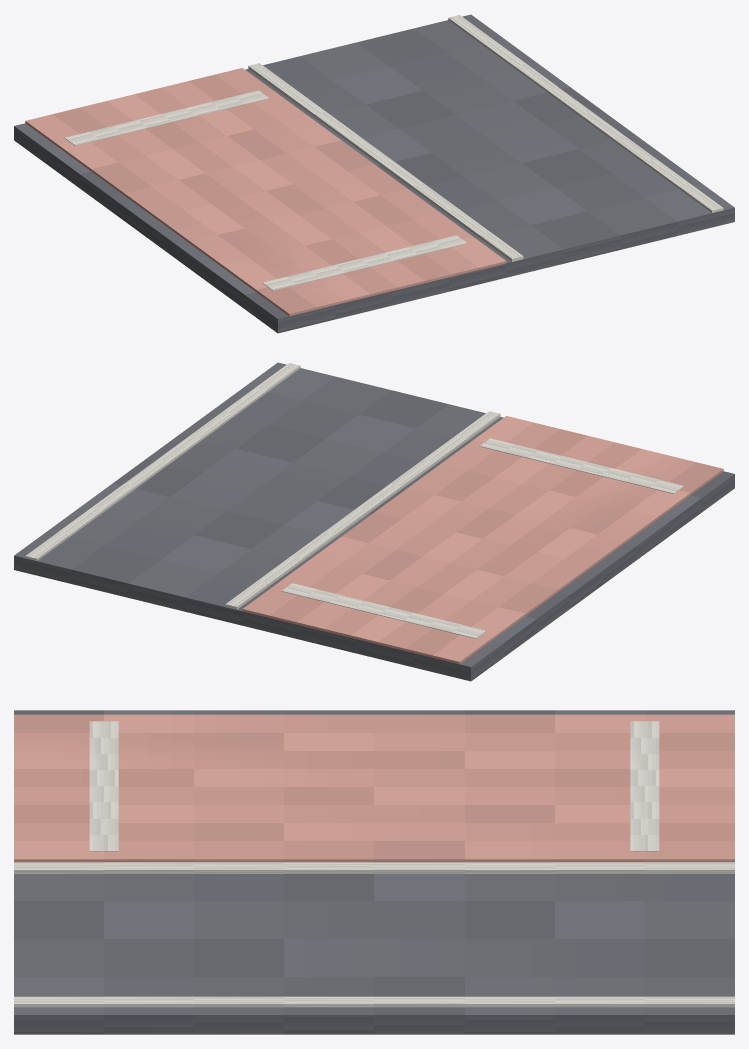
Rendered from pixel-modern-city-street-bus-lane-tile-477e0622__28998.glb.
The picture shows the model from 3 angles, top to bottom: view 1: azimuth 30°, elevation 25°; view 2: azimuth 150°, elevation 25°; view 3: azimuth 270°, elevation 25°; orthographic projection. The views are drawn at different scales.
Visible parts, largest first — view 1: bus-lane-tile; view 2: bus-lane-tile; view 3: bus-lane-tile.
Boxes of the visible parts, x1,y1,x2,y2 form: bus-lane-tile: [14, 14, 734, 333]; bus-lane-tile: [14, 362, 734, 681]; bus-lane-tile: [14, 710, 734, 1034].
Bounding box in the file's own units: 4 × 0.145 × 4.
3 materials, 3 textured.
